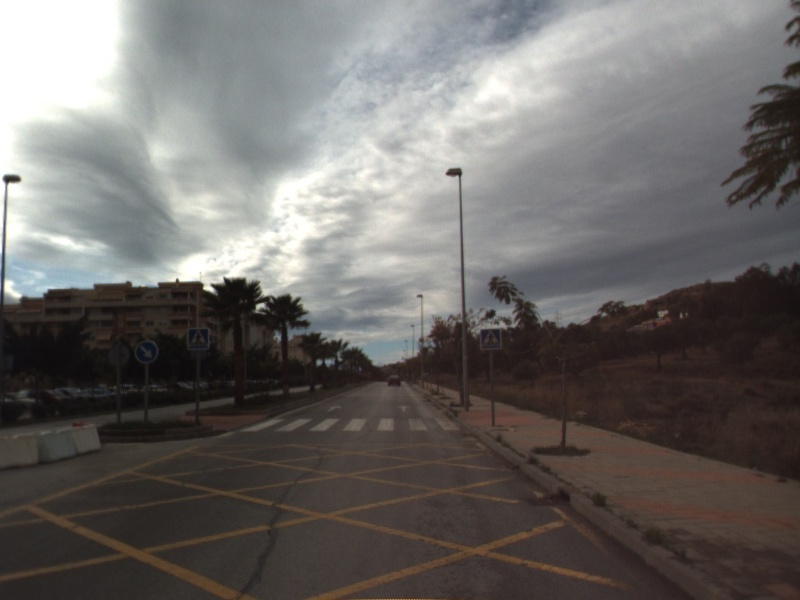STRAIGHT: (325, 403, 344, 414), (395, 403, 413, 414)
